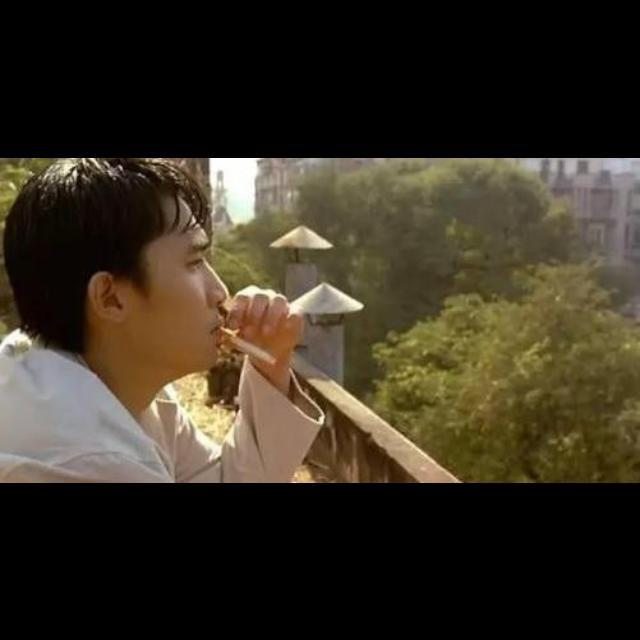rokok: (223, 332, 279, 368)
